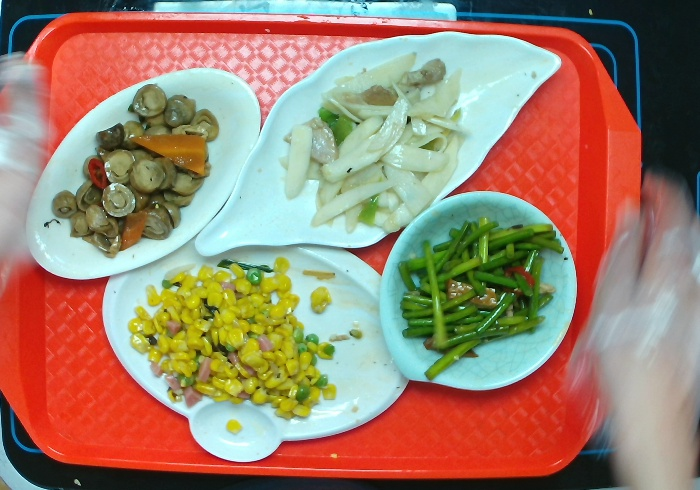RJxy-Bai_Se_Tuo_Yuan: (26, 61, 265, 287)
RJxy-Shu_Ye_Pan: (190, 30, 567, 262)
RJxy-Xiao_Jiao_Yuan_Wan: (374, 185, 585, 400)
RJxy-Zhan_Liao_Pan: (99, 237, 412, 462)
